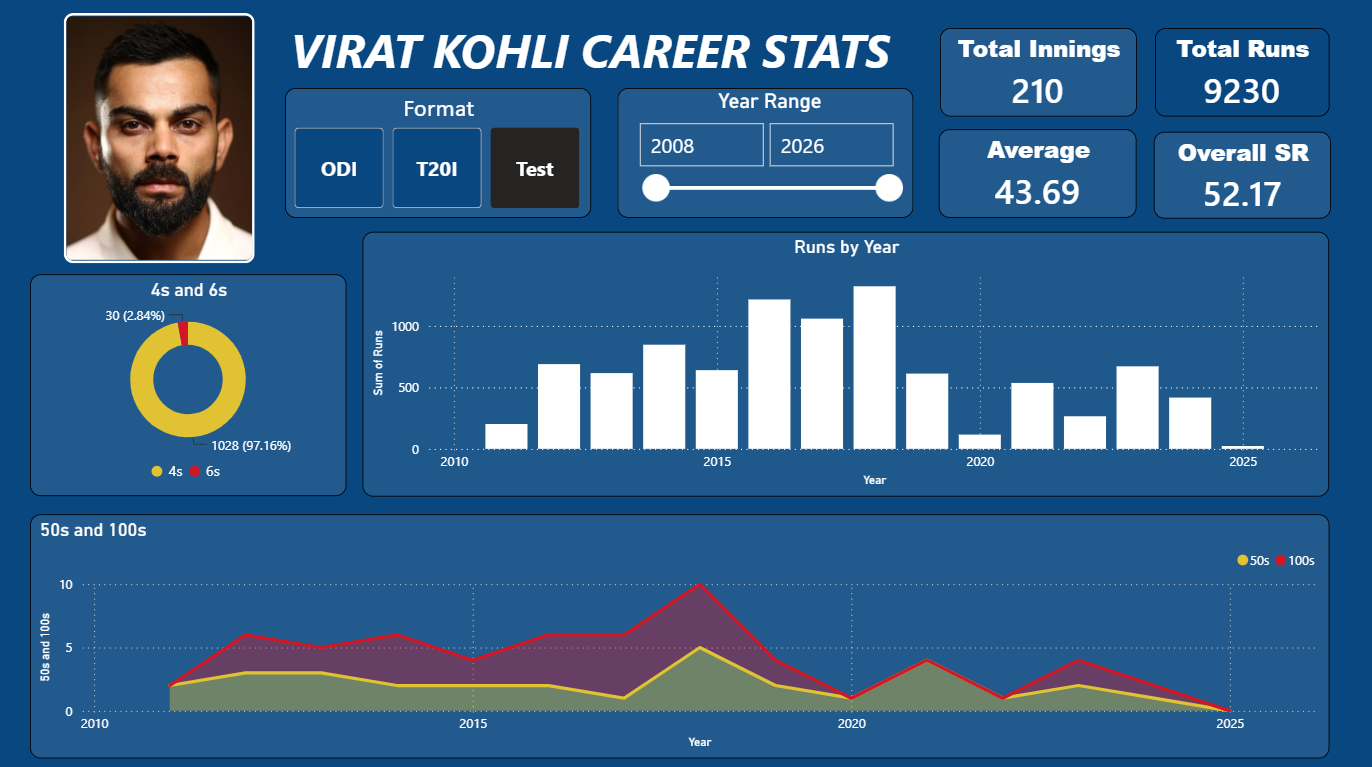

Layout of this report page (visuals, bound fields, positions):
{"tool":"powerbi","page":{"name":"Page ","canvas":[1280,720],"ordinal":0},"visuals":[{"type":"image","box":[59.1,13.8,177.4,232.4],"z":0},{"type":"cardVisual","title":"Total Innings","fields":{"Data":["Sum(Sheet1.Innings)"]},"box":[874.6,27.5,182.9,82.5],"z":1000},{"type":"textbox","box":[265.4,13.8,599.6,82.5],"z":2000},{"type":"cardVisual","title":"Total Runs","fields":{"Data":["Sum(Sheet1.Runs)"]},"box":[1074.3,27.5,162.3,82.5],"z":3000},{"type":"cardVisual","title":" Average","fields":{"Data":["Avg(Sheet1.Avg)"]},"box":[873.2,122.4,184.3,82.5],"z":4000},{"type":"advancedSlicerVisual","fields":{"Values":["Sheet1.Format"]},"box":[265.4,83.9,284.7,121],"z":5000},{"type":"cardVisual","title":"Overall SR","fields":{"Data":["Avg(Sheet1.SR)"]},"box":[1072.7,124.1,165,81.1],"z":6000},{"type":"clusteredColumnChart","title":"Runs by Year","fields":{"Category":["Sheet1.Year"],"Y":["Sum(Sheet1.Runs)"]},"box":[336.9,217.3,899.4,246.2],"z":7000},{"type":"slicer","title":"Year Range","fields":{"Values":["Sheet1.Year"]},"box":[574.8,83.9,275,121],"z":8000},{"type":"donutChart","title":"4s and 6s","fields":{"Y":["Sum(Sheet1.4s)","Sum(Sheet1.6s)"]},"box":[27.5,257.2,294.3,206.3],"z":9000},{"type":"stackedAreaChart","title":"50s and 100s ","fields":{"Category":["Sheet1.Year"],"Y":["Sum(Sheet1.50)","Sum(Sheet1.100)"]},"box":[27.5,479.9,1208.8,226.9],"z":10000}]}

Visuals, with their boxes in screenshot pixels (x1, y1, x2, y2), scaled from the page's 1280x720 canvas onto the 1372x767 screenshot:
image: rect(63, 15, 253, 262)
"Total Innings" cardVisual: rect(937, 29, 1134, 117)
textbox: rect(284, 15, 927, 103)
"Total Runs" cardVisual: rect(1152, 29, 1325, 117)
" Average" cardVisual: rect(936, 130, 1134, 218)
advancedSlicerVisual - Sheet1.Format: rect(284, 89, 590, 218)
"Overall SR" cardVisual: rect(1150, 132, 1327, 219)
"Runs by Year" clusteredColumnChart: rect(361, 231, 1325, 494)
"Year Range" slicer: rect(616, 89, 911, 218)
"4s and 6s" donutChart: rect(29, 274, 345, 494)
"50s and 100s " stackedAreaChart: rect(29, 511, 1325, 753)
